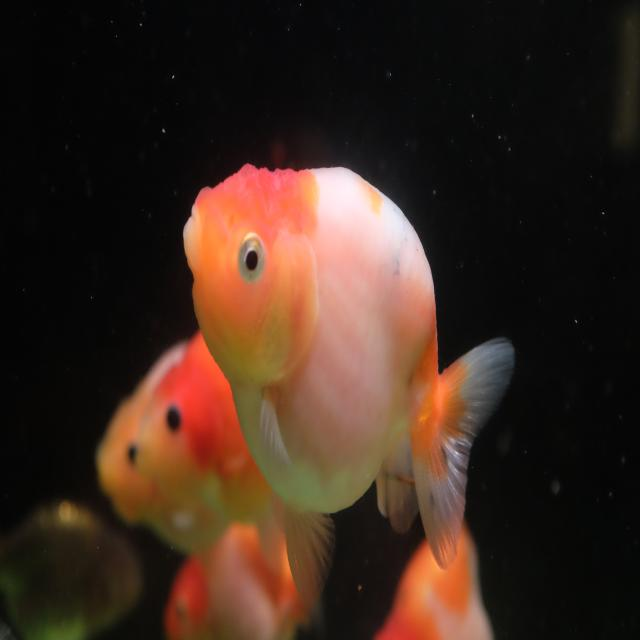Goldfish: (182, 158, 516, 573)
